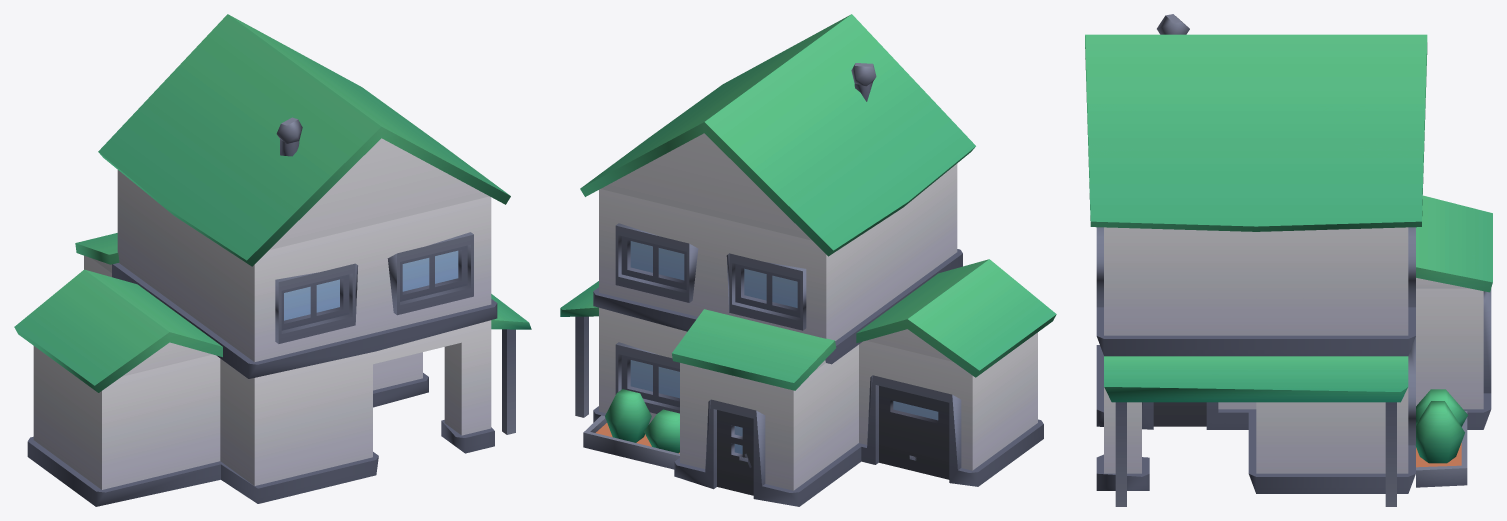
The model's file is 072_city-kit-suburban_building-type-s_card.glb.
3 views of the same model, side by side, from view 1: azimuth 30°, elevation 25°; view 2: azimuth 150°, elevation 25°; view 3: azimuth 270°, elevation 25° (orthographic). The views are drawn at different scales.
Visible parts, largest first — view 1: building-type-s; view 2: building-type-s; view 3: building-type-s.
Boxes of the visible parts, x1,y1,x2,y2 form: building-type-s: (14, 14, 531, 506); building-type-s: (560, 14, 1056, 506); building-type-s: (1085, 14, 1492, 506).
Bounding box in the file's own units: 1.39 × 1.14 × 1.07.
1 material, 1 textured.
